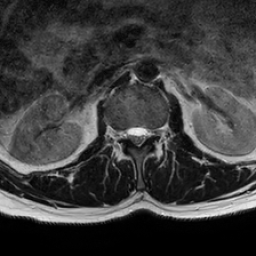CCS_normal: (134, 117, 141, 153)
LFS_normal: (149, 120, 157, 145)
LLS_normal: (141, 120, 149, 147)
RFS_normal: (118, 122, 126, 147)
RLS_normal: (126, 121, 134, 148)
